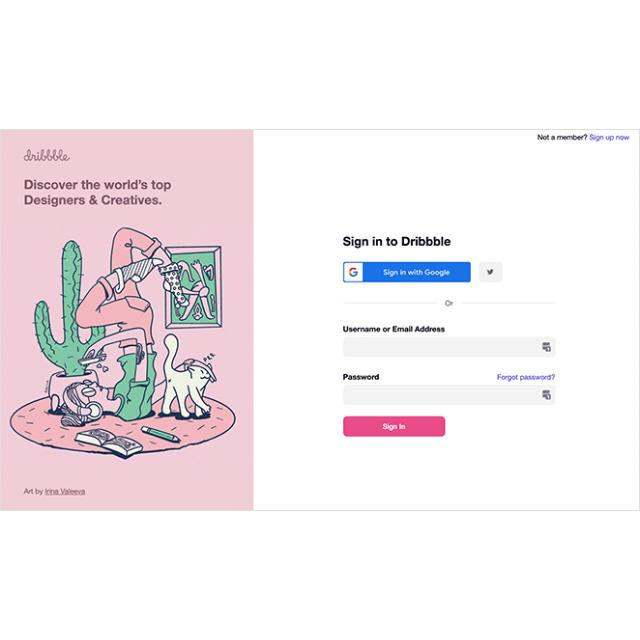QLabel: (340, 234, 452, 250), (342, 325, 446, 333), (382, 268, 450, 278), (496, 373, 556, 382), (536, 132, 588, 142), (590, 134, 630, 142), (342, 374, 380, 382), (381, 423, 405, 431), (444, 299, 454, 307)
VBtn: (342, 260, 471, 284), (342, 416, 446, 438), (478, 260, 504, 284)
VDivider: (342, 302, 438, 304), (461, 302, 555, 304)
VIcon: (344, 264, 362, 280), (486, 268, 494, 276)
VImg: (0, 129, 254, 511)
VTextField: (342, 336, 556, 358), (342, 384, 556, 406)
